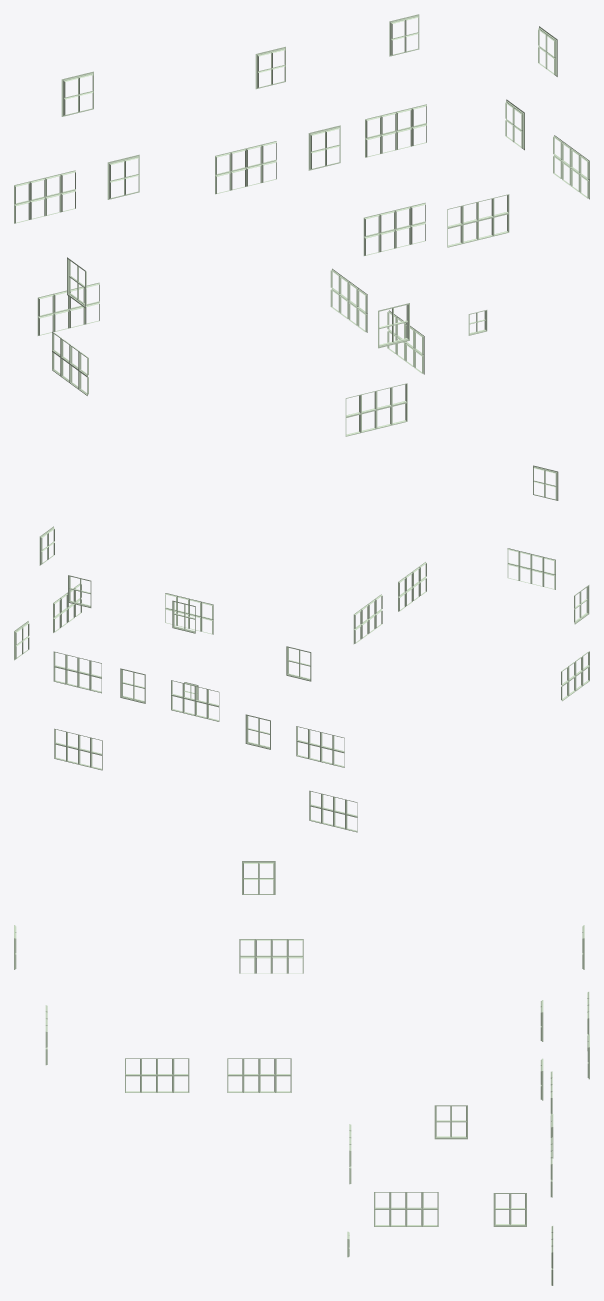
Rendered from FairyTale85.gltf.
3 renders of one model, top to bottom at view 1: azimuth 30°, elevation 25°; view 2: azimuth 150°, elevation 25°; view 3: azimuth 270°, elevation 25°, orthographic. The views are drawn at different scales.
Visible parts, largest first — view 1: HouseLG02_Mullions_Wood; view 2: HouseLG02_Mullions_Wood; view 3: HouseLG02_Mullions_Wood.
Part boxes in pixels (x1,y1,x2,y2): HouseLG02_Mullions_Wood: (14,14,589,436); HouseLG02_Mullions_Wood: (14,465,589,832); HouseLG02_Mullions_Wood: (14,861,589,1285).
Bounding box in the file's own units: 20.54 × 7.94 × 19.62.
